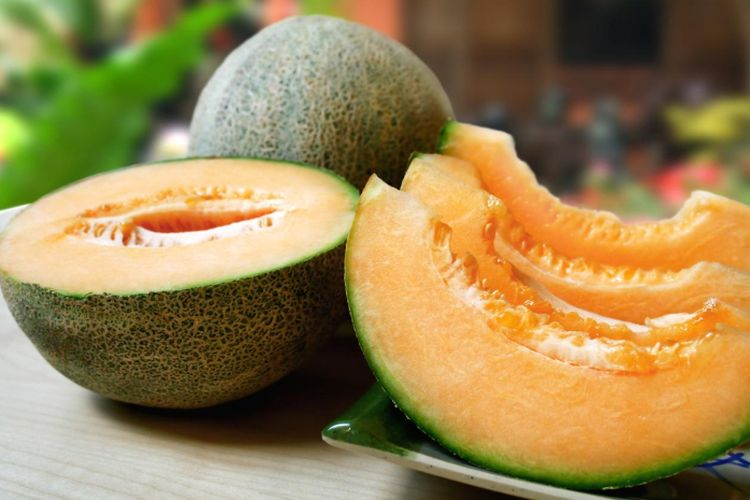Melon: (340, 192, 733, 487)
